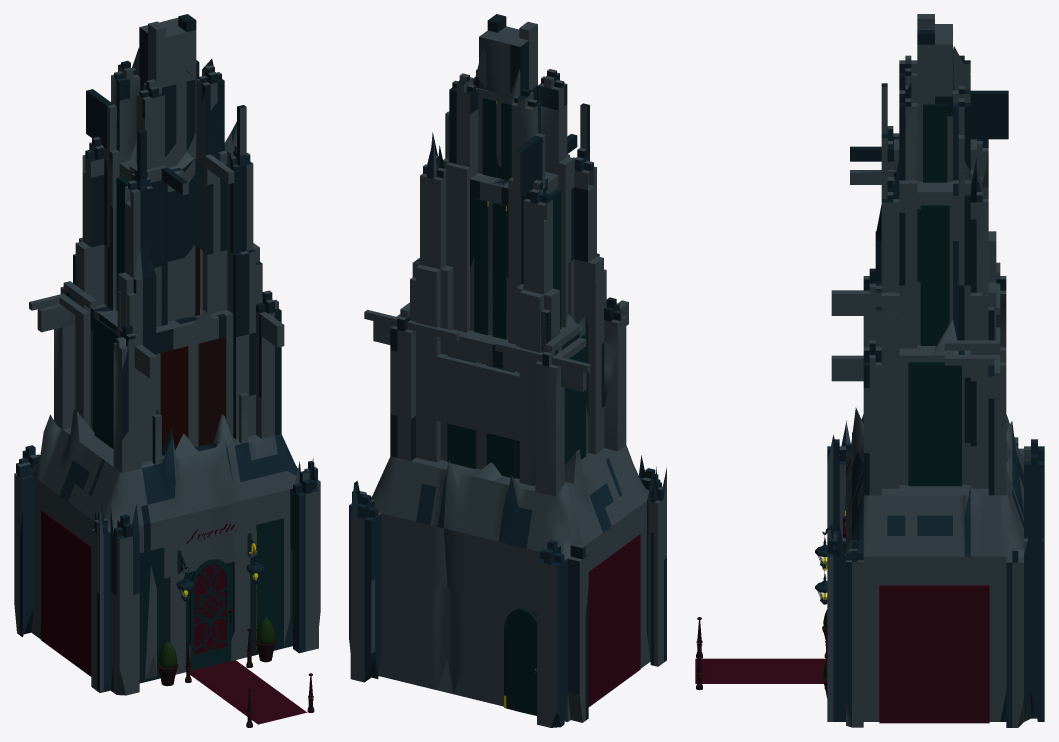
The model's file is Hotel1.fbx.
3 views of the same model, side by side, from view 1: azimuth 30°, elevation 25°; view 2: azimuth 150°, elevation 25°; view 3: azimuth 270°, elevation 25° (orthographic). The views are drawn at different scales.
Visible parts, largest first — view 1: WandlaterneCombined:polySurface15, pCube36; view 2: WandlaterneCombined:polySurface15; view 3: WandlaterneCombined:polySurface15, pCube36.
Boxes of the visible parts, x1,y1,x2,y2 form: WandlaterneCombined:polySurface15: (14,14,320,695); pCube36: (157,617,314,727); WandlaterneCombined:polySurface15: (349,14,666,727); WandlaterneCombined:polySurface15: (815,14,1044,727); pCube36: (695,609,827,697).
Bounding box in the file's own units: 718 × 1924 × 931.
